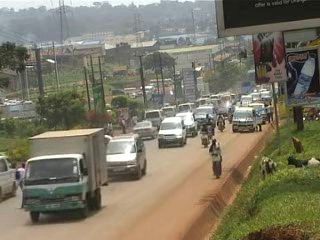Car: (106, 131, 148, 182), (157, 114, 187, 148), (173, 109, 199, 139), (129, 117, 158, 140), (215, 97, 236, 115)
Motorcycle: (198, 122, 210, 147), (213, 112, 227, 133), (204, 117, 215, 139), (199, 112, 212, 130), (225, 104, 234, 125), (103, 128, 112, 143)
